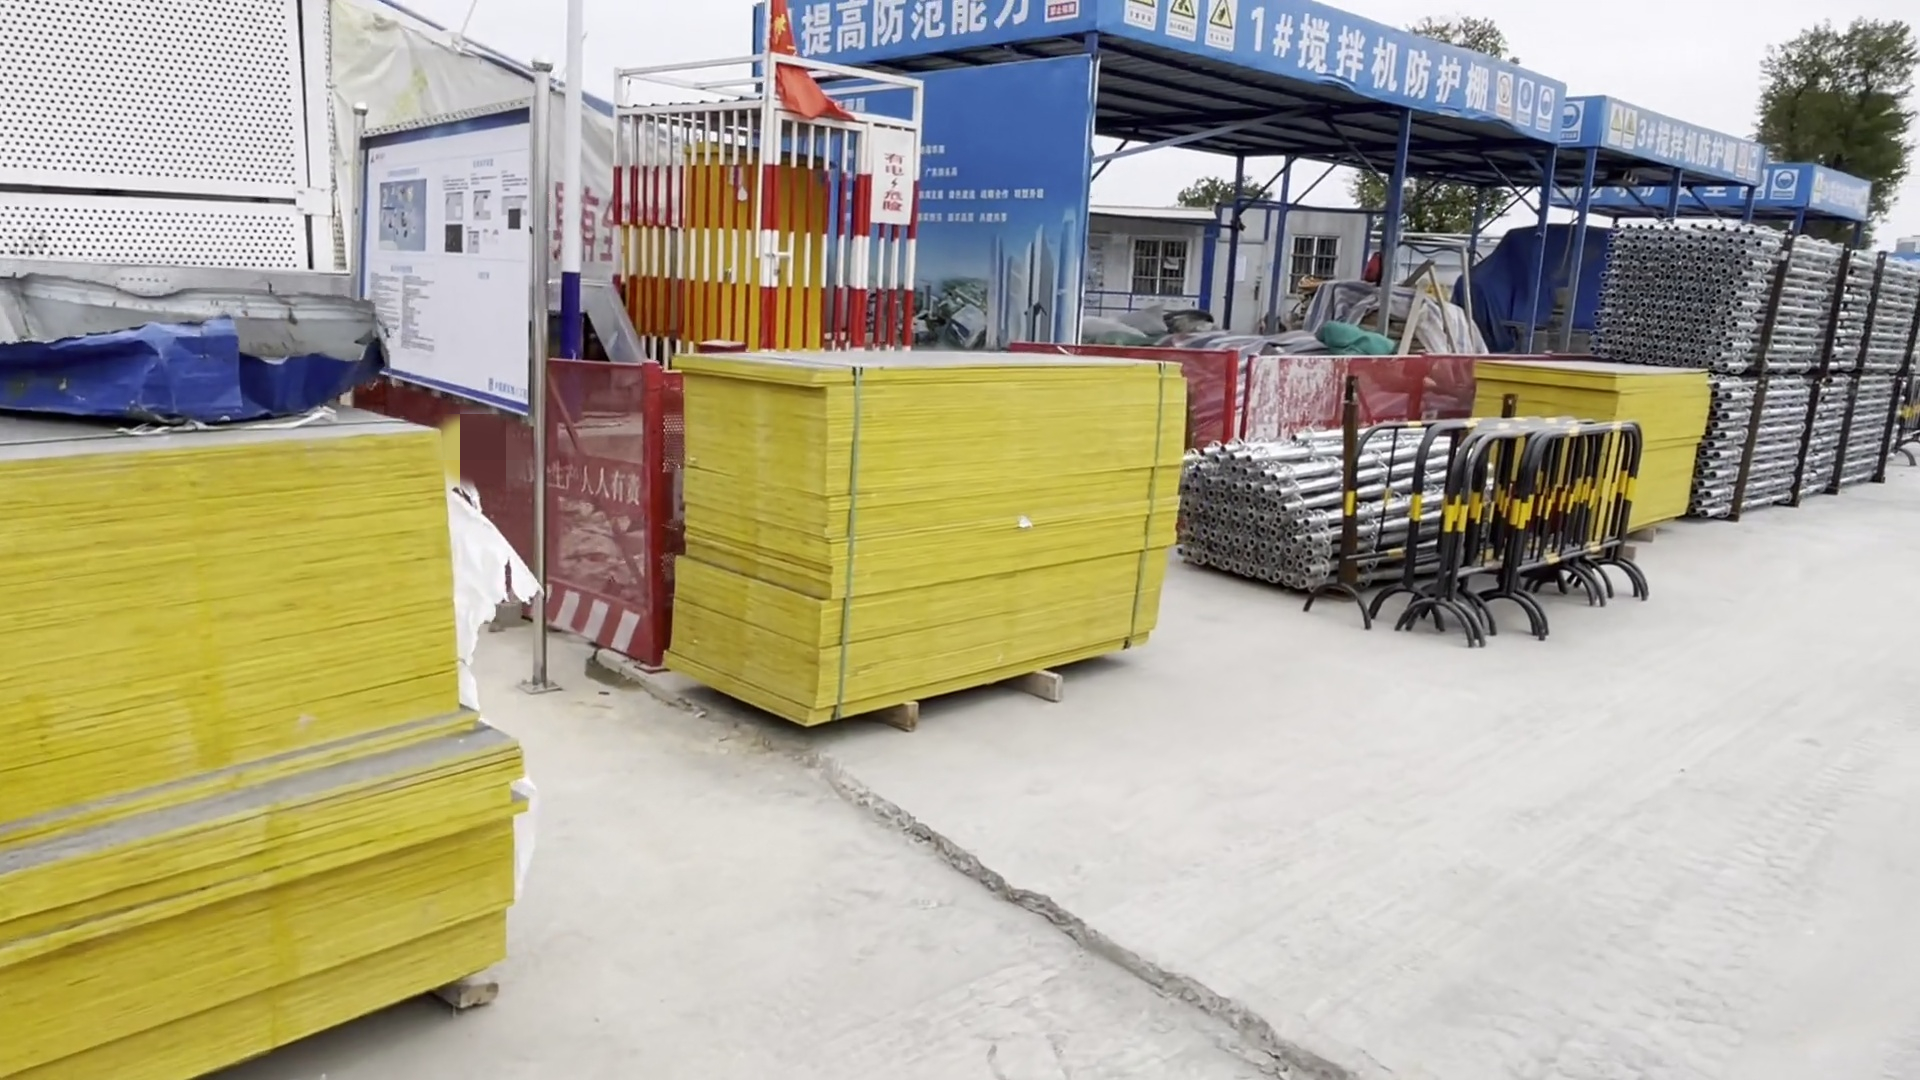board: (1, 414, 534, 1039), (711, 334, 1174, 707), (1514, 365, 1696, 533)
ebox: (650, 154, 829, 347)
fence: (1163, 336, 1627, 632)
scaffold: (1615, 208, 1913, 531), (1184, 426, 1484, 592)
slogan: (796, 1, 1093, 59), (1498, 69, 1665, 165)
